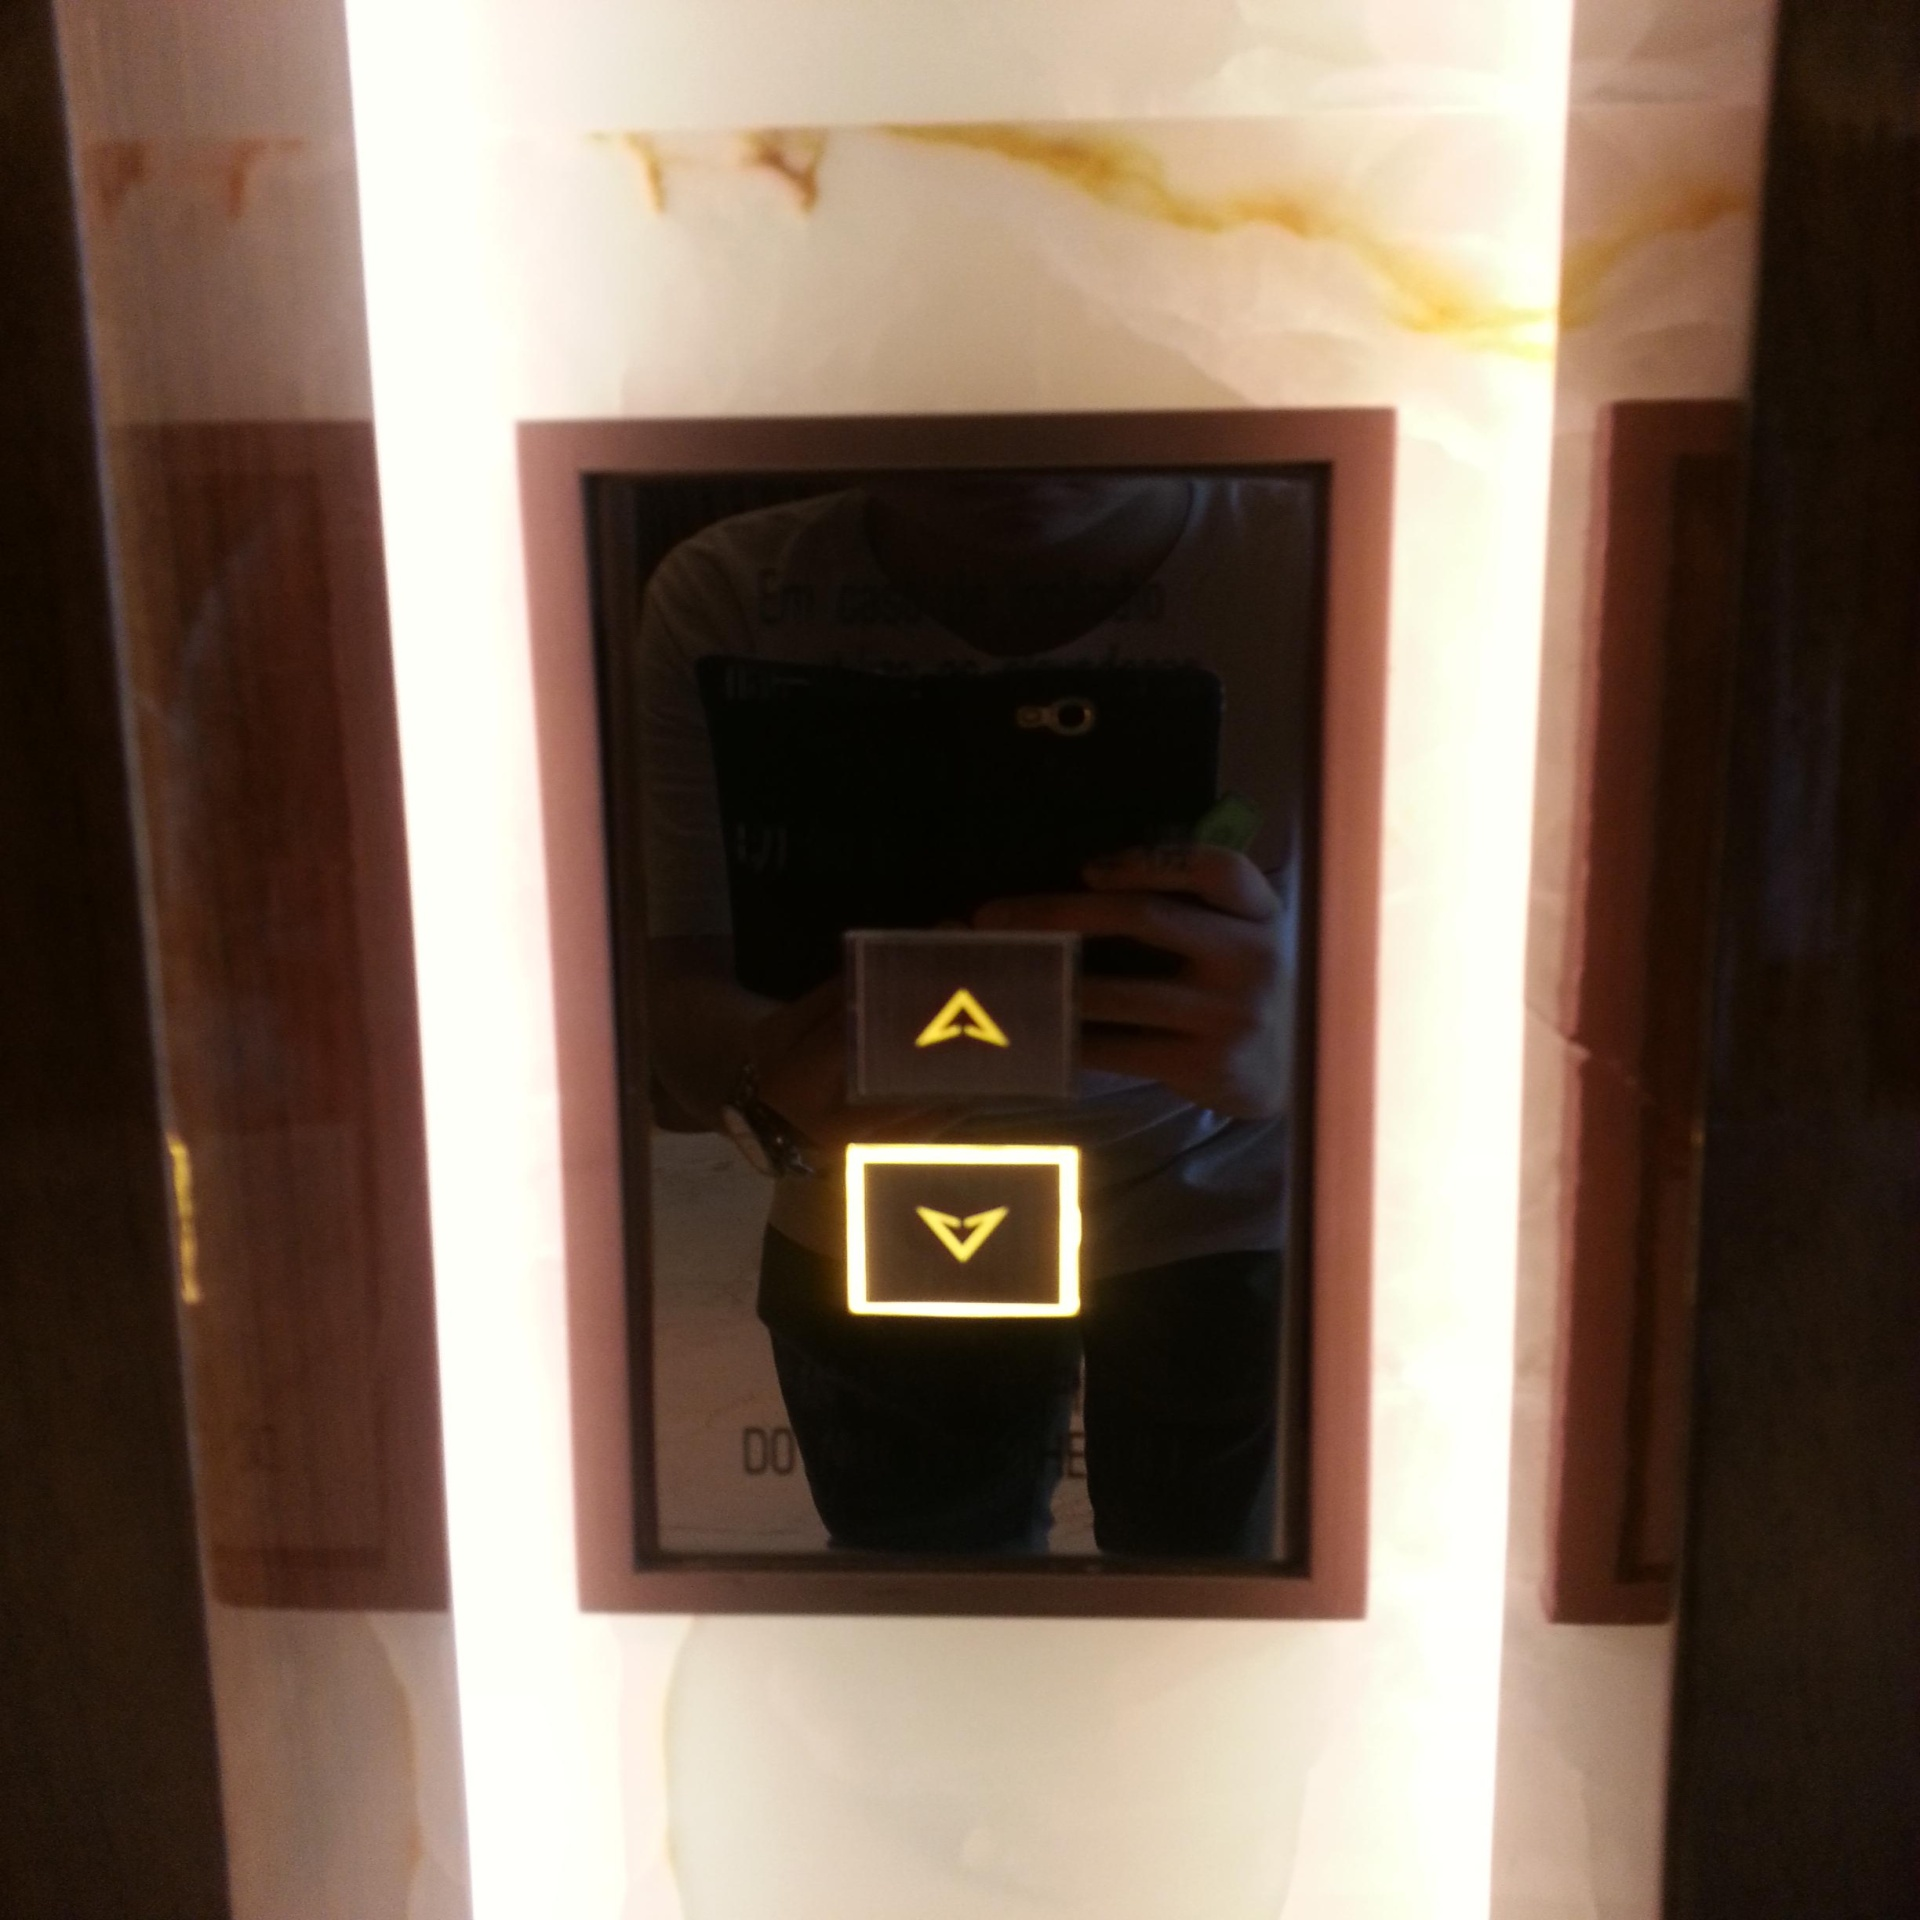down: (842, 1139, 1083, 1319)
up: (851, 932, 1071, 1097)
